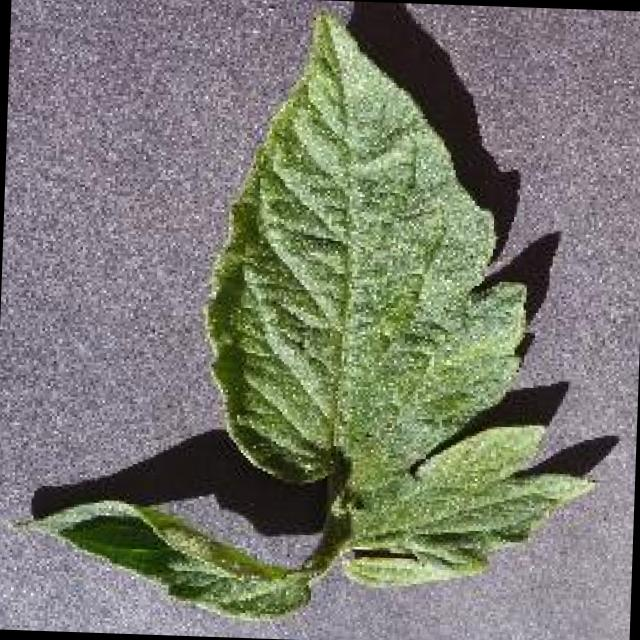Tomato_Healthy: (4, 12, 610, 634)
